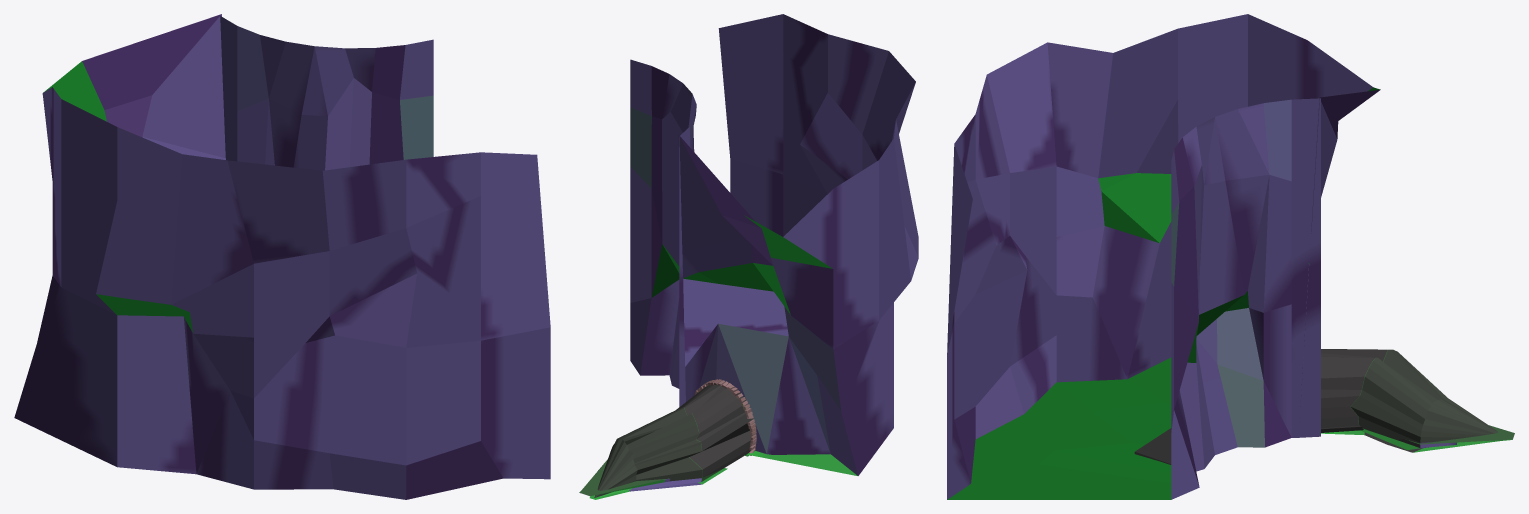
File: Mapa Verde 1.fbx
3 views of the same model, side by side, from view 1: azimuth 30°, elevation 25°; view 2: azimuth 150°, elevation 25°; view 3: azimuth 270°, elevation 25° (orthographic). The views are drawn at different scales.
Parts seen in each view (by area): view 1: Mapa1; view 2: Mapa1; view 3: Mapa1.
Part boxes in pixels (bbox=[...]): Mapa1: bbox=[14, 14, 550, 499]; Mapa1: bbox=[579, 14, 918, 499]; Mapa1: bbox=[947, 14, 1514, 499].
Size of the model in its own units: 20284 by 30377 by 20260.
4 materials, 3 textured.
